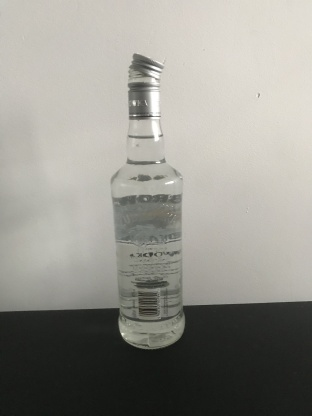nakretka: (126, 51, 164, 120)
